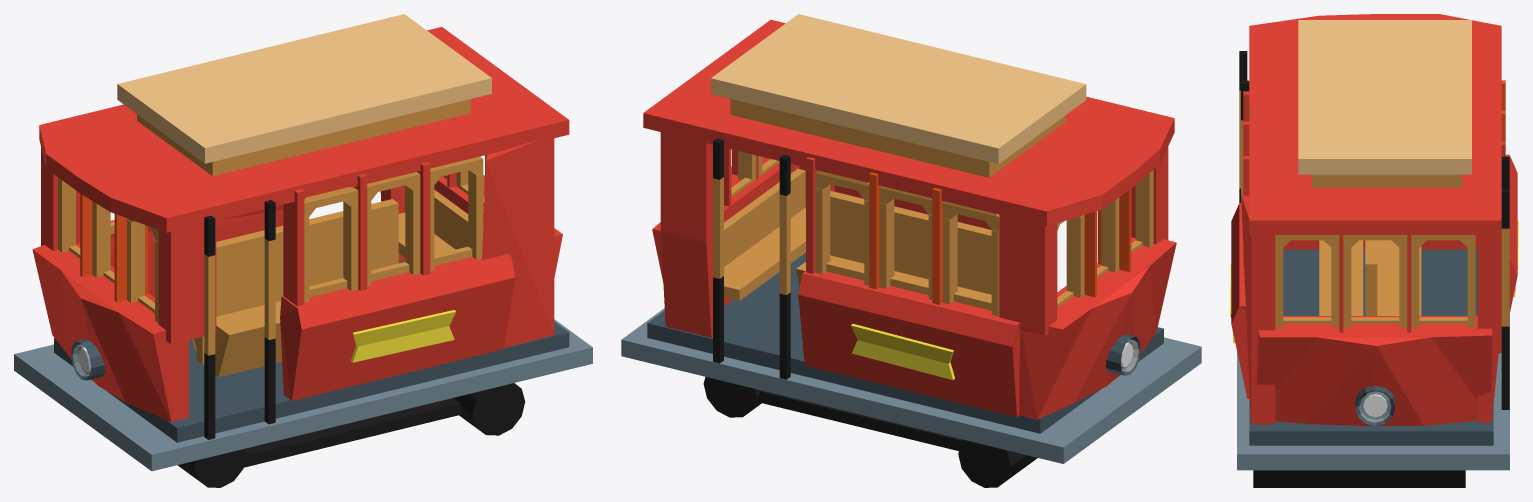
The model's file is bonde.glb.
3 renders of one model, left to right at view 1: azimuth 30°, elevation 25°; view 2: azimuth 150°, elevation 25°; view 3: azimuth 270°, elevation 25°, orthographic.
Visible parts, largest first — view 1: Node; view 2: Node; view 3: Node.
Boxes of the visible parts, x1,y1,x2,y2 form: Node: [14, 14, 592, 487]; Node: [621, 14, 1201, 487]; Node: [1230, 14, 1518, 487].
Size of the model in its own units: 1.27 by 0.9199 by 0.7208.
